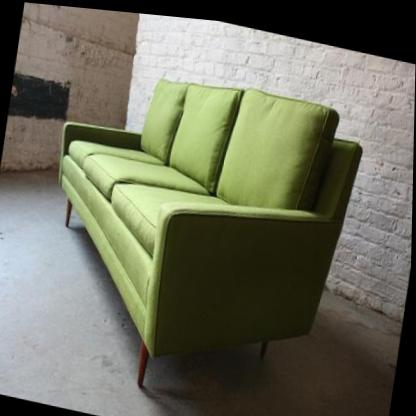Sofa: (30, 47, 368, 416)
